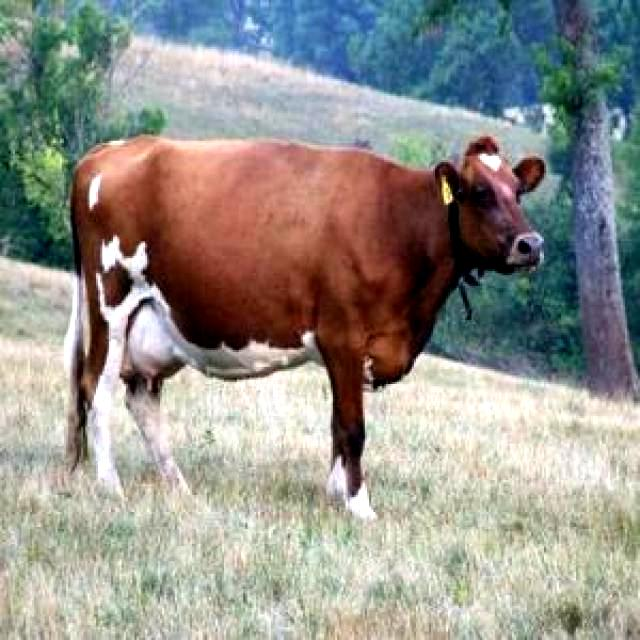COW: (66, 136, 545, 518)
